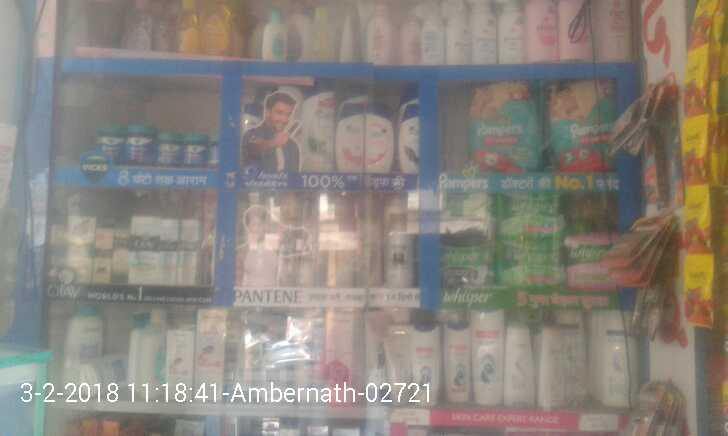vicks: (97, 121, 222, 169)
